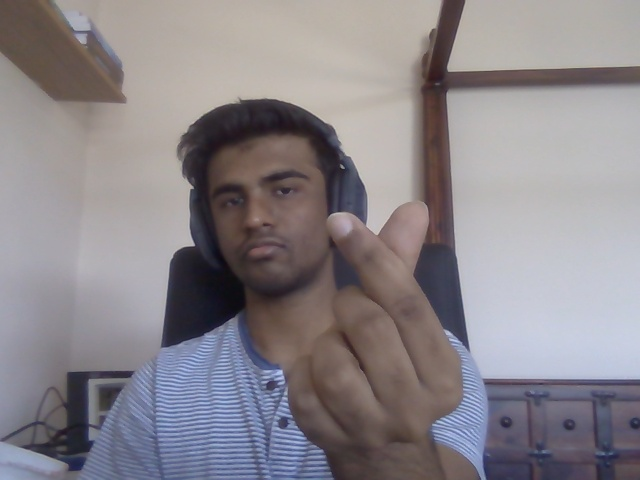Heart: (290, 203, 463, 443)
